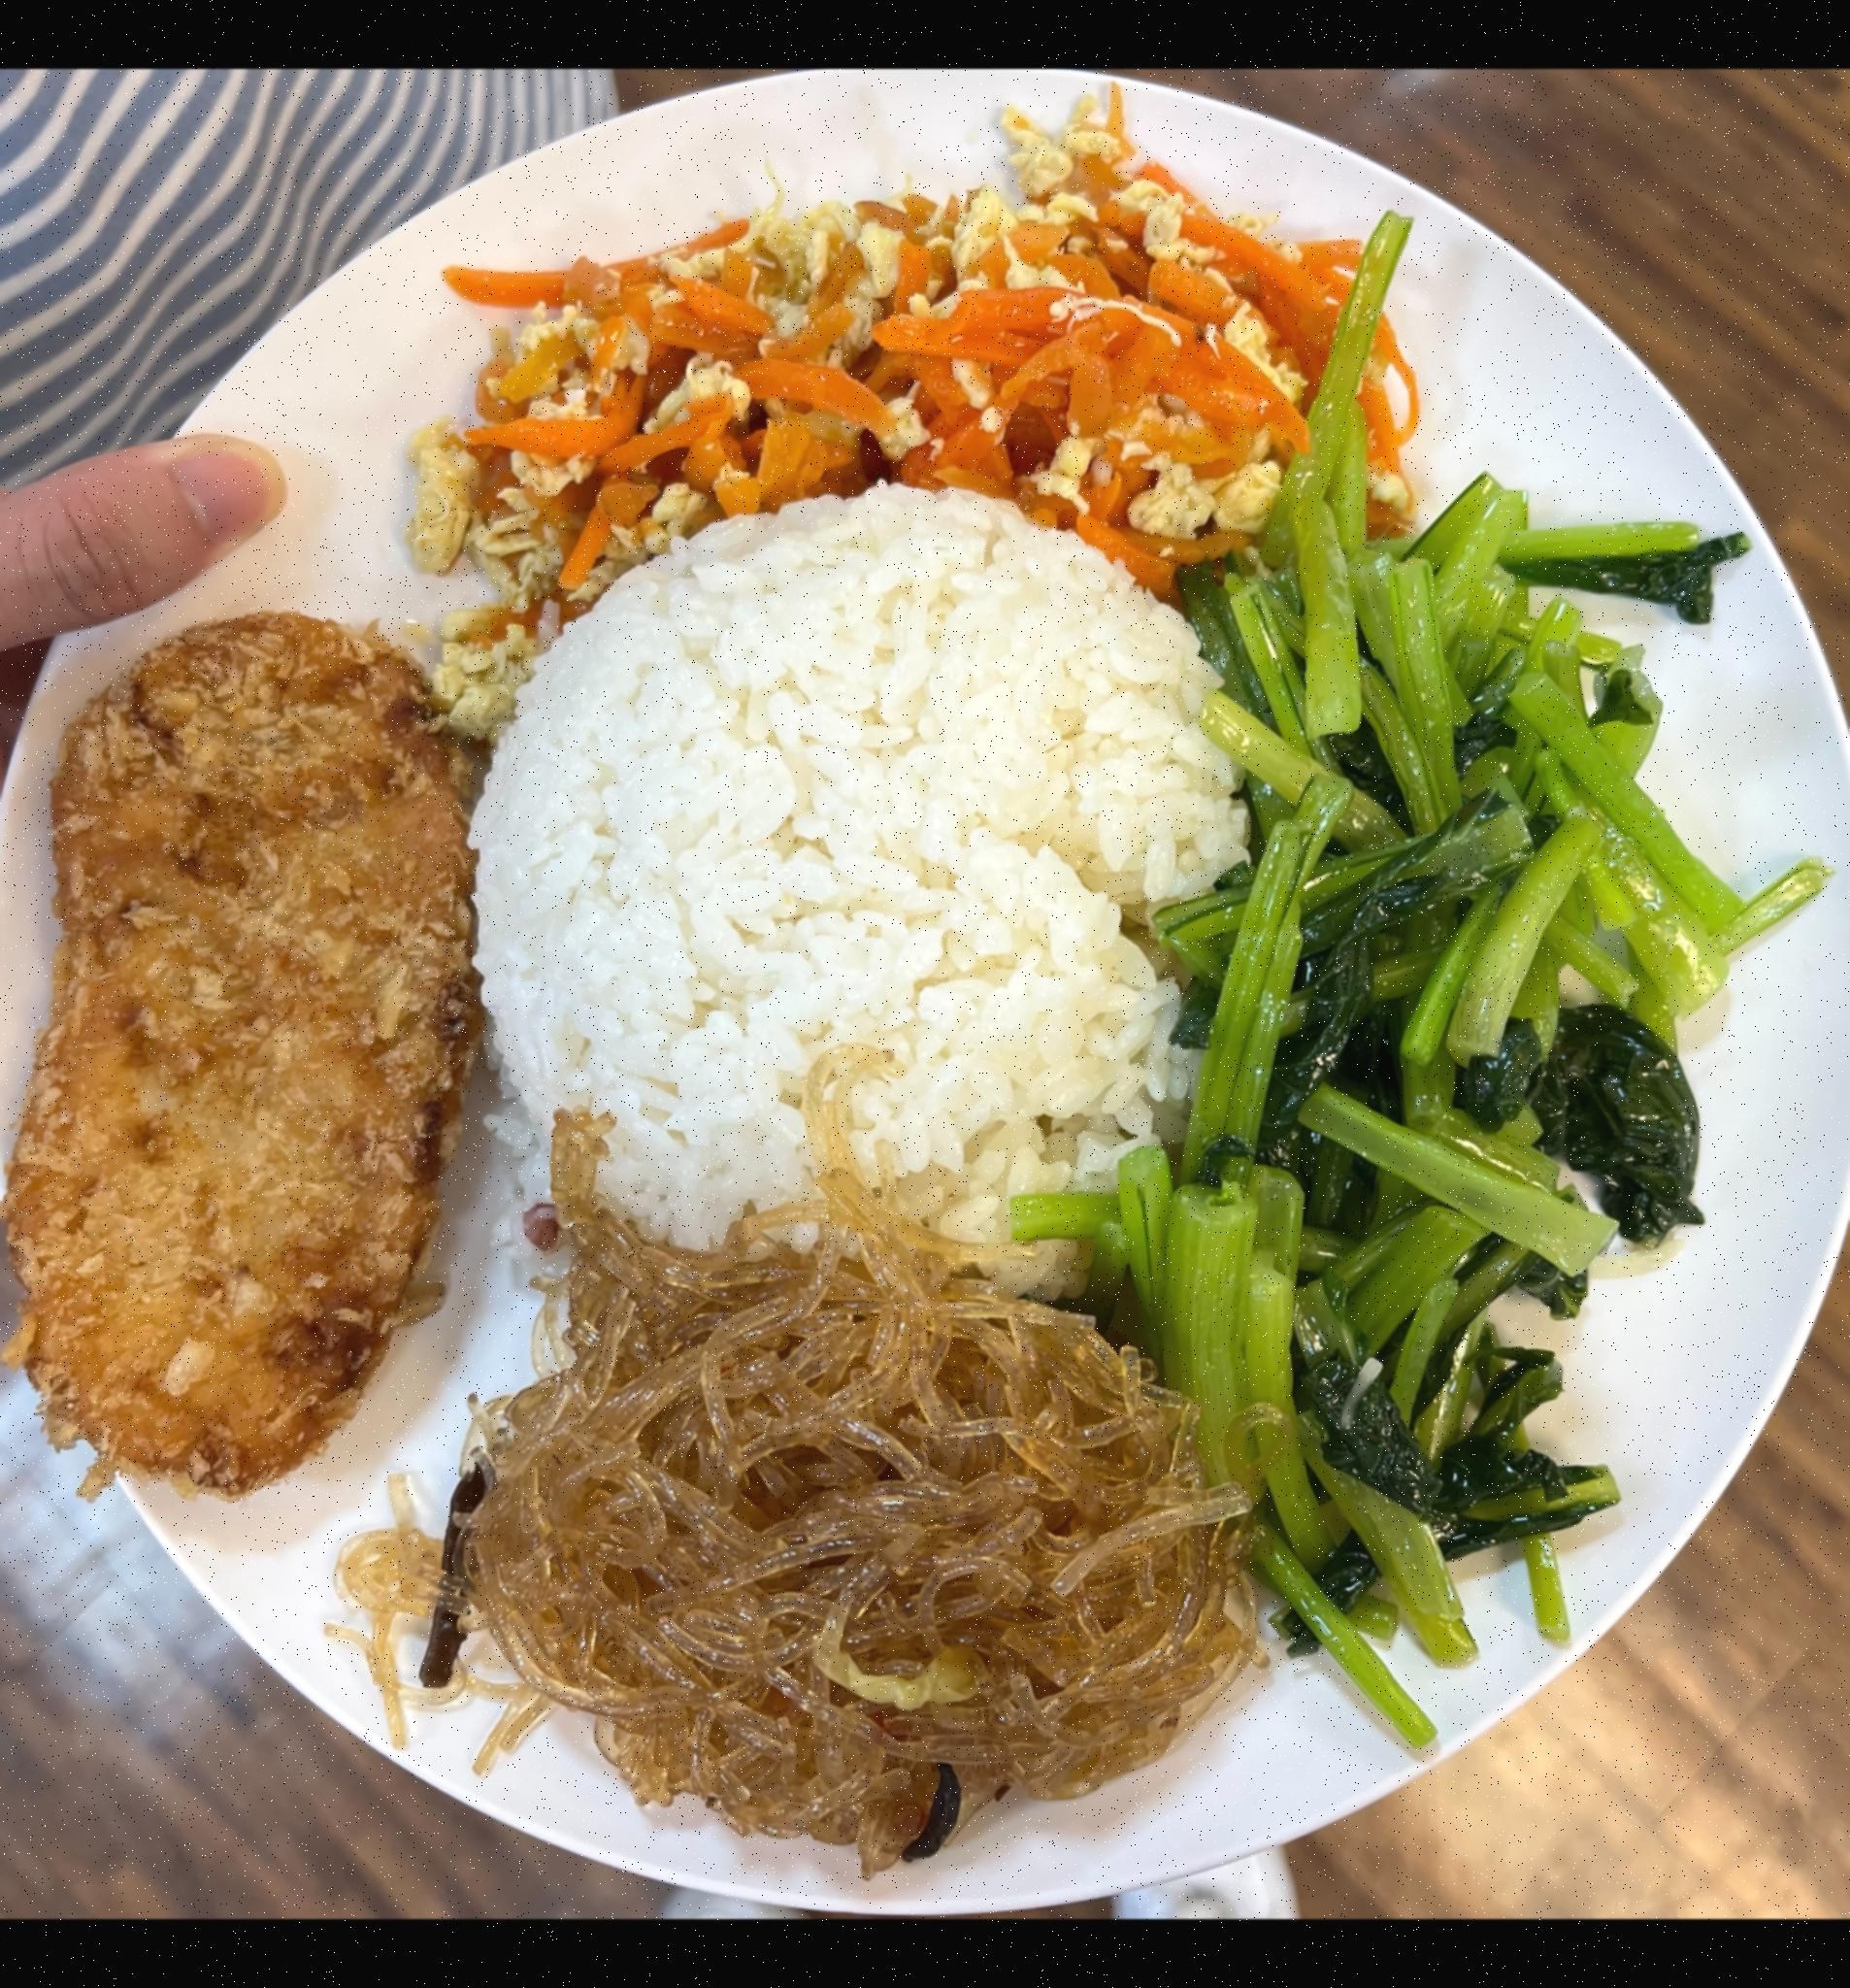cuttlefish steak: (0, 597, 504, 1515)
plate: (0, 70, 1850, 1917)
side dish: (1161, 461, 1727, 1631), (471, 1235, 1287, 1837), (428, 169, 1410, 579)
white rice: (457, 499, 1262, 1310)
